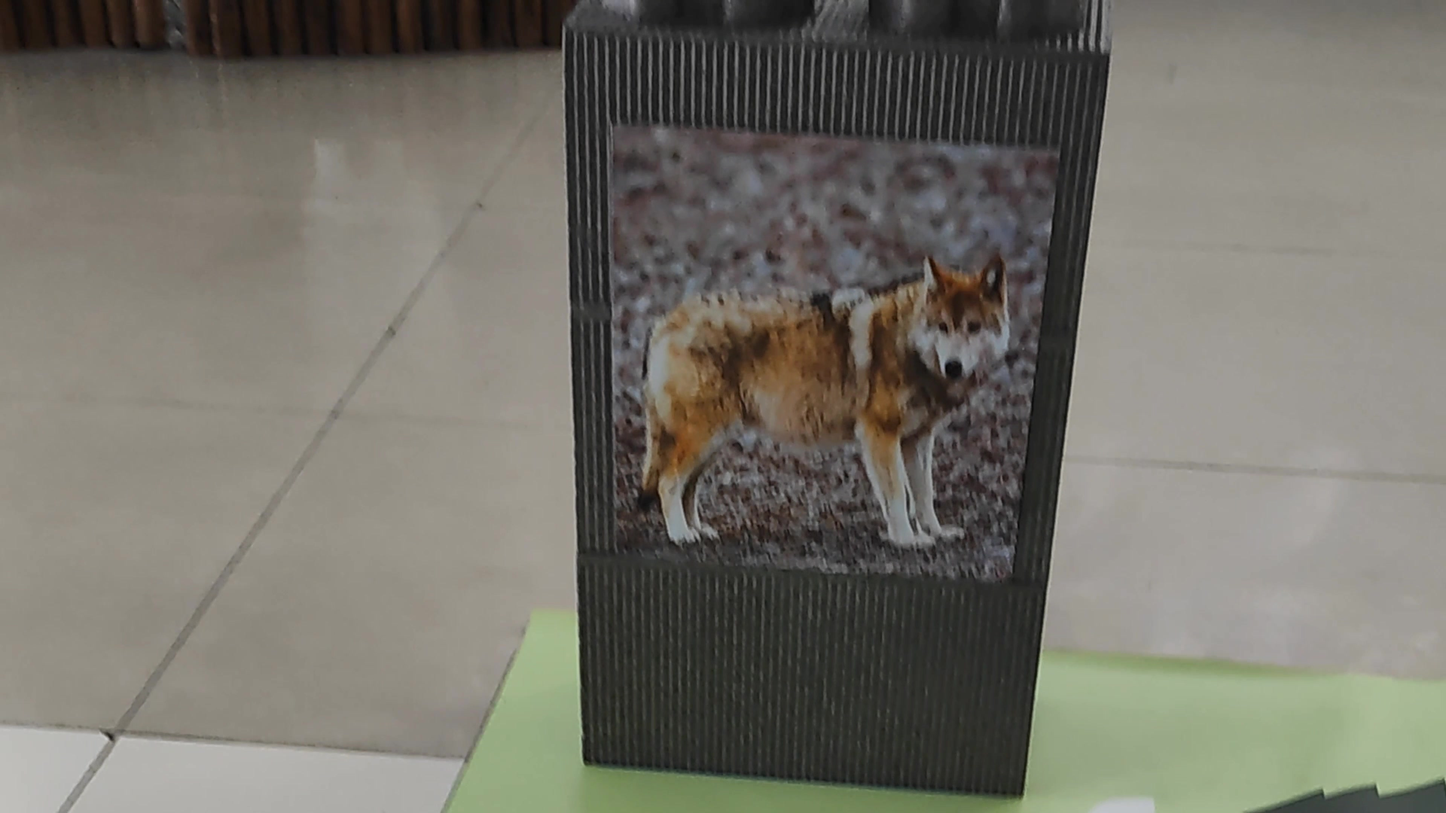wolf: (601, 154, 1013, 560)
